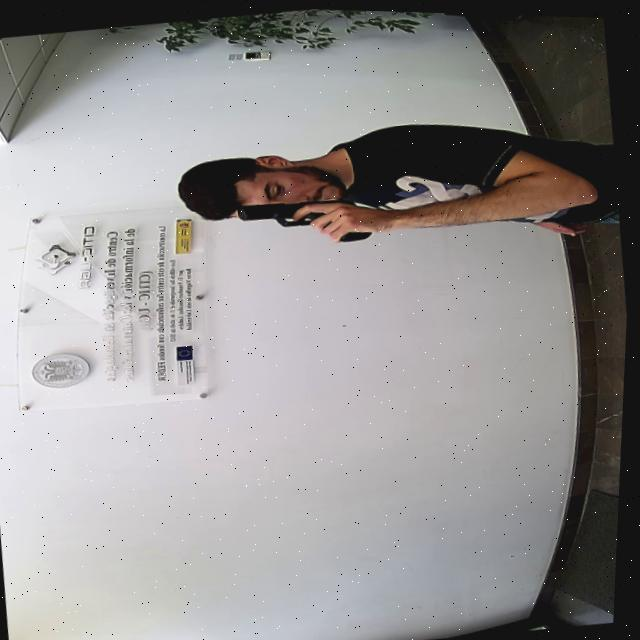pistol: (236, 189, 361, 233)
